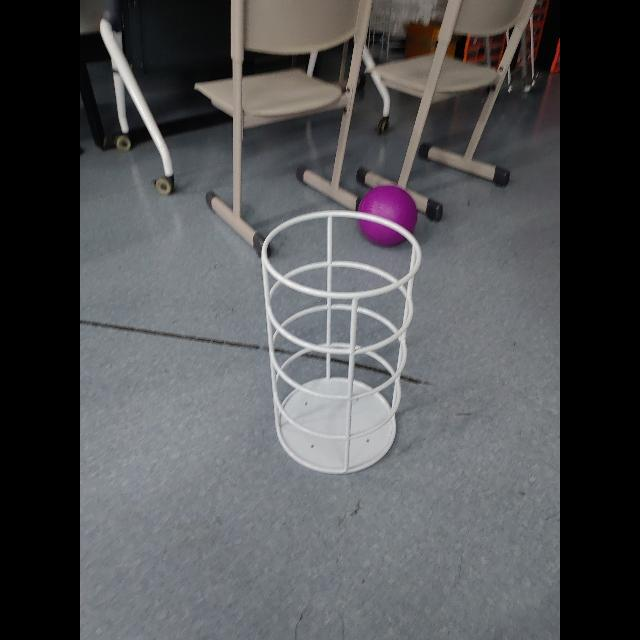S: (258, 207, 424, 479)
